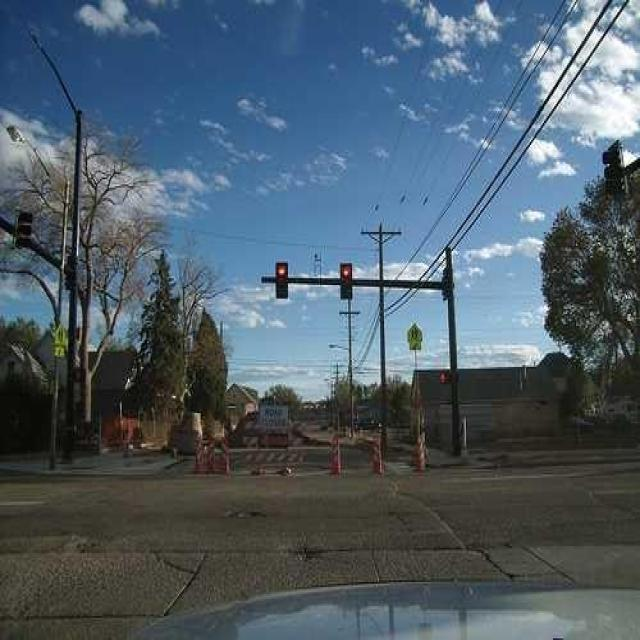Traffic Light -Red-: (274, 261, 289, 300), (339, 263, 353, 300)
